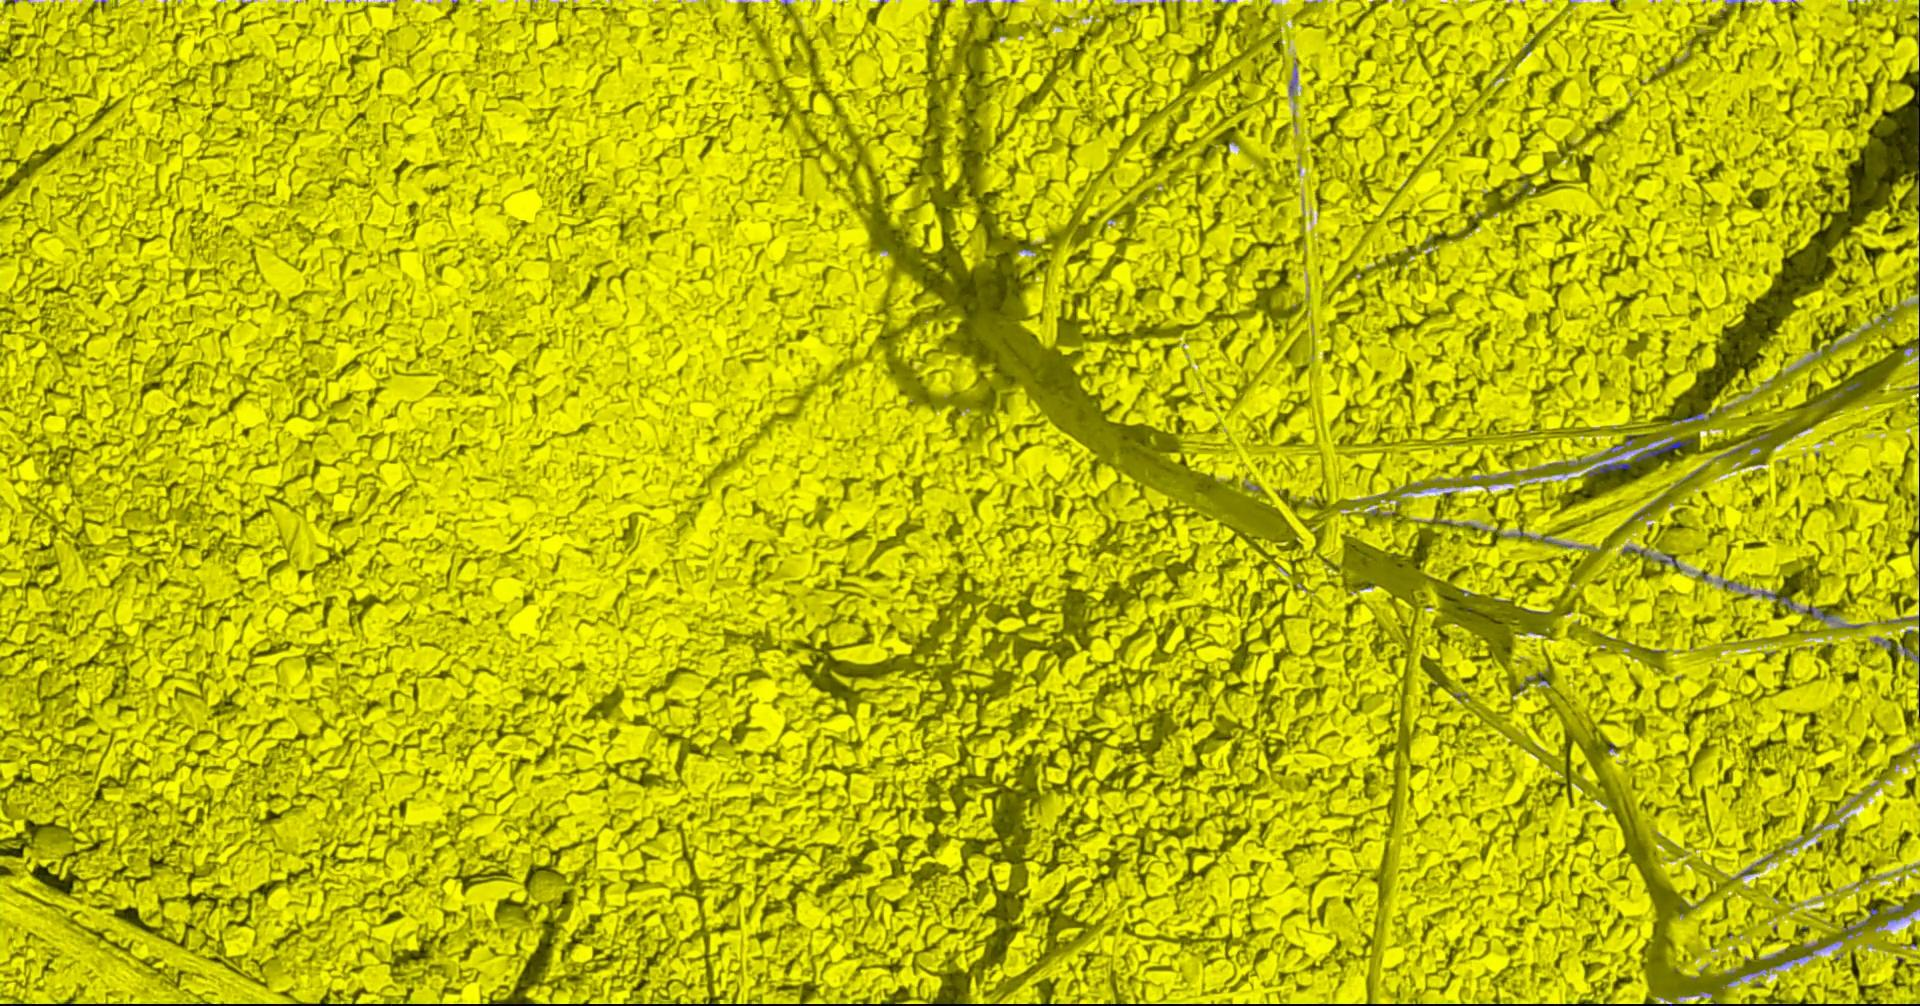ant: (1636, 439, 1693, 461), (1589, 462, 1630, 474)
